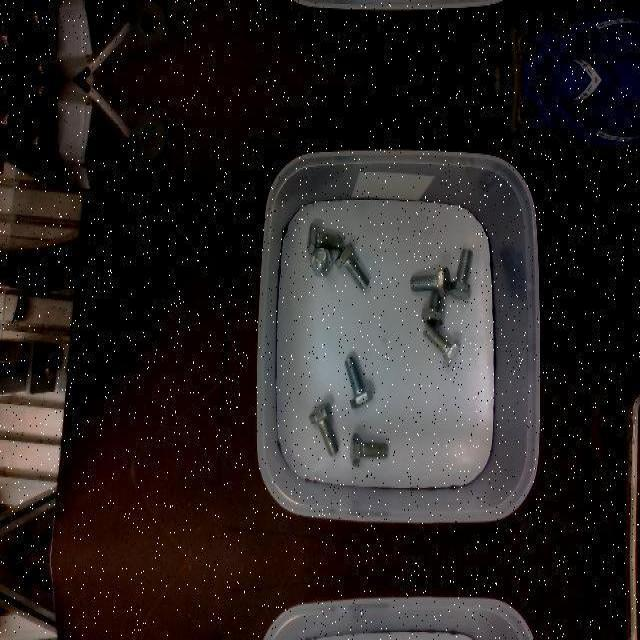screw: (334, 243, 369, 291), (422, 322, 460, 366), (308, 401, 338, 455), (344, 356, 373, 408), (350, 433, 388, 467), (410, 266, 450, 298), (449, 248, 473, 298), (307, 222, 343, 254), (310, 247, 333, 277)
